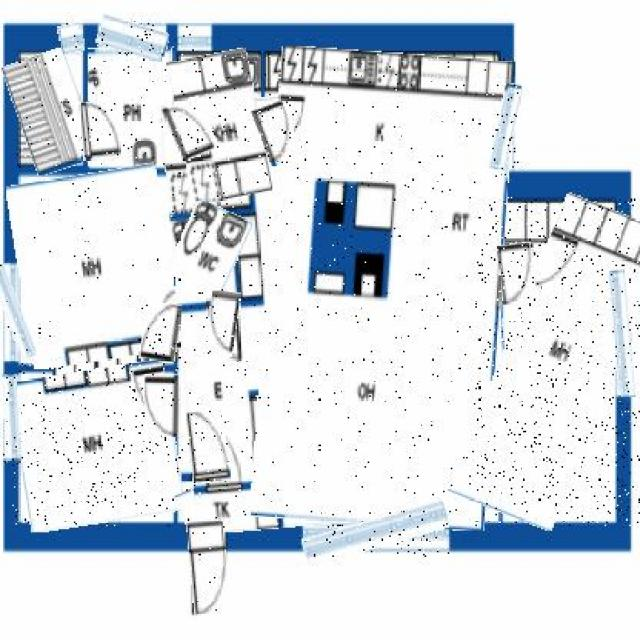door: (189, 520, 228, 614), (167, 98, 216, 160), (189, 411, 229, 483), (255, 102, 297, 164), (80, 102, 122, 160), (498, 242, 536, 304), (142, 302, 180, 362), (206, 292, 240, 357), (144, 374, 178, 437)
window: (303, 511, 449, 557), (612, 269, 634, 397), (97, 18, 169, 57), (0, 263, 28, 359), (492, 84, 518, 170), (3, 374, 20, 463), (178, 26, 212, 54), (59, 23, 85, 54)
zone: (169, 86, 509, 528), (260, 50, 509, 528), (475, 197, 640, 526), (14, 169, 177, 365), (14, 364, 180, 528), (174, 50, 266, 202), (90, 48, 176, 166), (11, 51, 91, 172), (172, 203, 245, 291), (177, 474, 260, 526)
